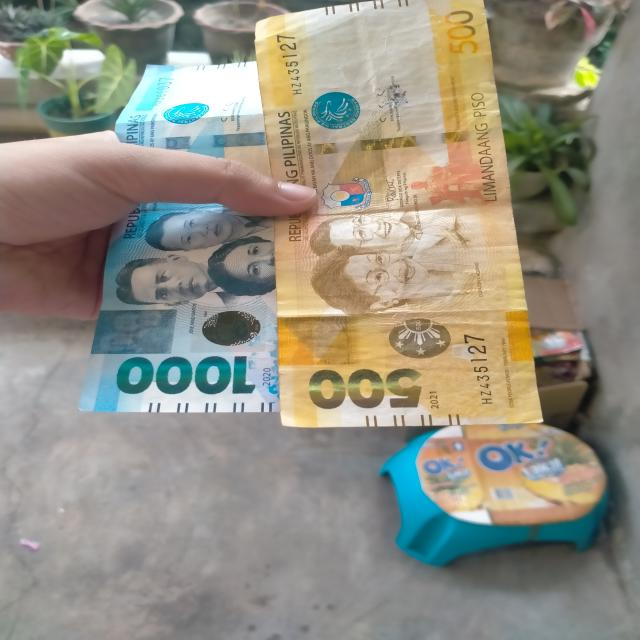concealed_value: (273, 316, 364, 368), (89, 307, 178, 354)
optically_variable_device: (182, 301, 272, 353), (379, 309, 454, 366)
security_thread: (263, 130, 512, 156), (111, 134, 276, 150)
serial_number: (458, 333, 498, 408), (270, 29, 307, 103)
value: (109, 347, 258, 398), (307, 366, 432, 410)
